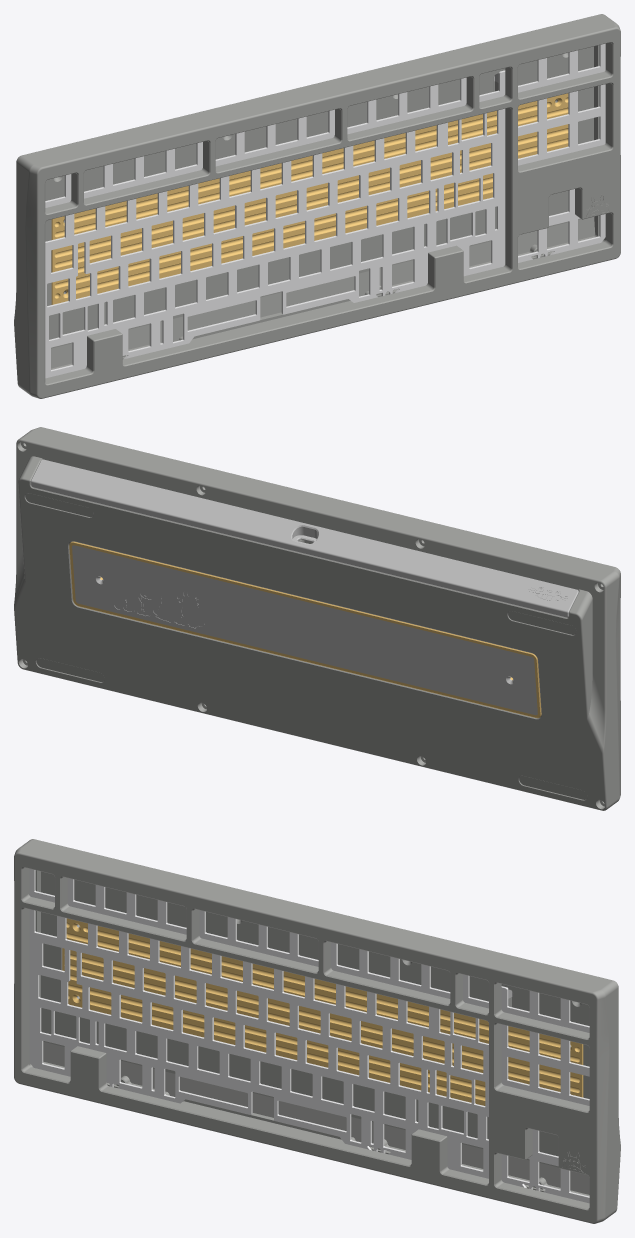
The model's file is totoro-lance.fbx.
3 views of the same model, one above another, from view 1: azimuth 30°, elevation 25°; view 2: azimuth 150°, elevation 25°; view 3: azimuth 330°, elevation 25° (orthographic).
Visible parts, largest first — view 1: Top, Plate, Bottom, Through; view 2: Bottom, Trim, Toblerone, Top, Through; view 3: Top, Plate, Bottom, Through.
Part boxes in pixels (bbox=[...]): Top: bbox=[23, 19, 620, 398]; Plate: bbox=[45, 43, 605, 378]; Bottom: bbox=[14, 14, 610, 390]; Through: bbox=[51, 93, 568, 304]; Bottom: bbox=[14, 433, 613, 810]; Trim: bbox=[72, 545, 537, 715]; Toblerone: bbox=[30, 459, 578, 617]; Top: bbox=[26, 427, 620, 805]; Through: bbox=[69, 541, 541, 718]; Top: bbox=[14, 844, 611, 1223]; Plate: bbox=[29, 868, 589, 1203]; Bottom: bbox=[24, 839, 620, 1215]; Through: bbox=[62, 918, 583, 1105].
Bounding box in the file's own units: 363 × 136 × 31.89.
